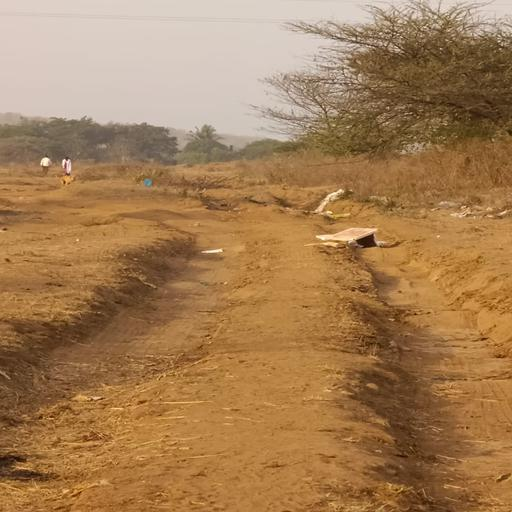vehicle_track: (0, 234, 243, 512), (362, 251, 512, 512)
